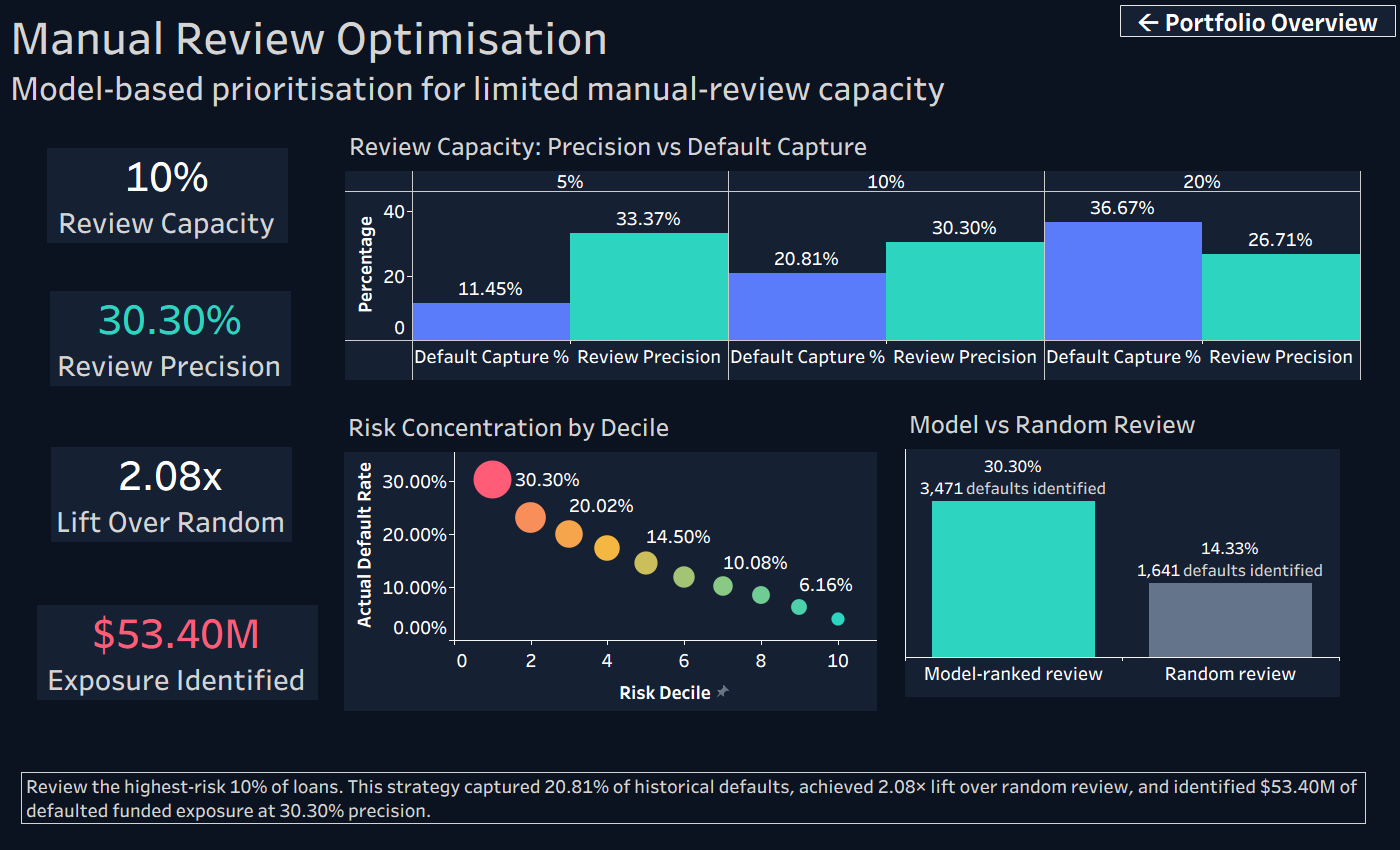

Layout of this report page (visuals, bound fields, positions):
{"tool":"tableau","page":{"name":"Manual Review Optimisation","canvas":[1400,850],"ordinal":0},"visuals":[{"type":"dashboard-object","box":[1120,5,276,32]},{"type":"worksheet","title":"Capacity Trade-off","mark":"Bar","cols":["review_capacity"],"box":[345,123,1016,258]},{"type":"worksheet","title":"KPI Review Capacity","mark":"Automatic","box":[47,133,247,111]},{"type":"worksheet","title":"KPI Precision","mark":"Automatic","box":[50,276,242,127]},{"type":"worksheet","title":"Model vs Random Review","mark":"Bar","rows":["precision_percentage"],"cols":["review_strategy"],"box":[905,401,434,296]},{"type":"worksheet","title":"Risk Concentration by Decile","mark":"Circle","rows":["actual_default_rate"],"cols":["risk_decile"],"box":[344,404,532,307]},{"type":"worksheet","title":"KPI Lift Over Random","mark":"Automatic","box":[51,432,266,115]},{"type":"worksheet","title":"KPI Exposure Identified","mark":"Automatic","box":[37,590,294,117]},{"type":"text","box":[21,772,1345,52]}]}

Visuals, with their boxes in screenshot pixels (x1, y1, x2, y2), scaled from the page's 1400x850 canvas onto the 1400x850 screenshot:
dashboard-object: bbox(1120, 5, 1396, 37)
"Capacity Trade-off" worksheet (Bar marks): bbox(345, 123, 1361, 381)
"KPI Review Capacity" worksheet: bbox(47, 133, 294, 244)
"KPI Precision" worksheet: bbox(50, 276, 292, 403)
"Model vs Random Review" worksheet (Bar marks): bbox(905, 401, 1339, 697)
"Risk Concentration by Decile" worksheet (Circle marks): bbox(344, 404, 876, 711)
"KPI Lift Over Random" worksheet: bbox(51, 432, 317, 547)
"KPI Exposure Identified" worksheet: bbox(37, 590, 331, 707)
text: bbox(21, 772, 1366, 824)
